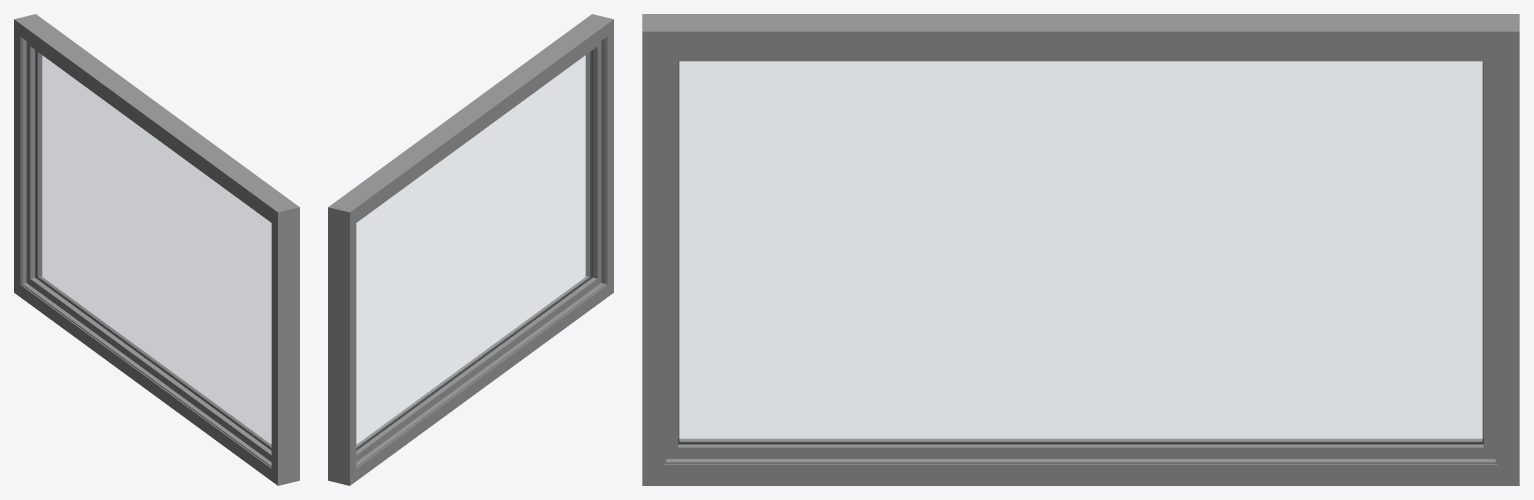
File: EE-VFI-04_1_LJ2O.gltf
3 renders of one model, left to right at view 1: azimuth 30°, elevation 25°; view 2: azimuth 150°, elevation 25°; view 3: azimuth 270°, elevation 25°, orthographic. The views are drawn at different scales.
Visible parts, largest first — view 1: Mesh2_Agrupar_2_Model002, Mesh2_Agrupar_2_Model000, Mesh2_Agrupar_2_Model001; view 2: Mesh2_Agrupar_2_Model002, Mesh2_Agrupar_2_Model000, Mesh2_Agrupar_2_Model001; view 3: Mesh2_Agrupar_2_Model002, Mesh2_Agrupar_2_Model000, Mesh2_Agrupar_2_Model001.
Part boxes in pixels (x1,y1,x2,y2): Mesh2_Agrupar_2_Model002: (36,51,271,449); Mesh2_Agrupar_2_Model000: (14,14,299,485); Mesh2_Agrupar_2_Model001: (35,50,271,450); Mesh2_Agrupar_2_Model002: (356,51,591,449); Mesh2_Agrupar_2_Model000: (328,14,613,485); Mesh2_Agrupar_2_Model001: (356,50,592,450); Mesh2_Agrupar_2_Model002: (679,61,1482,442); Mesh2_Agrupar_2_Model000: (642,14,1519,485); Mesh2_Agrupar_2_Model001: (678,61,1483,444).
Bounding box in the file's own units: 0.2 × 2.4 × 4.2.
3 materials, 1 textured.
